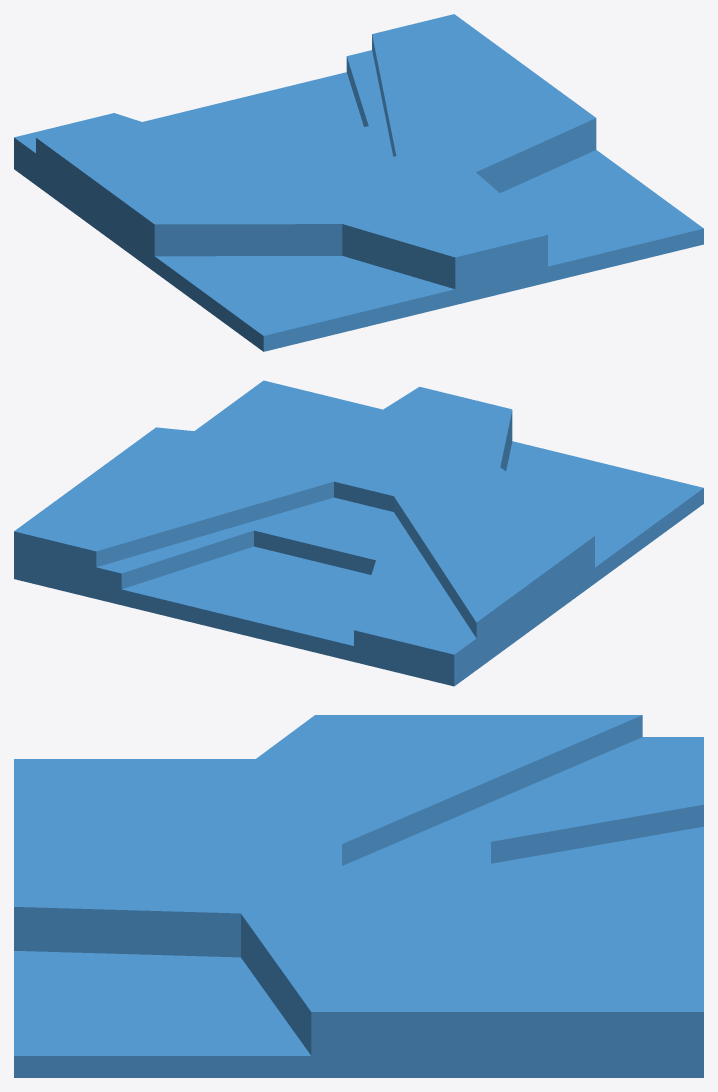
The model's file is New Level 6.fbx.
3 views of the same model, one above another, from view 1: azimuth 30°, elevation 25°; view 2: azimuth 150°, elevation 25°; view 3: azimuth 270°, elevation 25° (orthographic). The views are drawn at different scales.
Parts seen in each view (by area): view 1: New_Level6_3-5, New_Level6_4-5, New_Level6_5-5, New_Level6_2-5, New_Level6_1-5; view 2: New_Level6_3-5, New_Level6_2-5, New_Level6_1-5, New_Level6_4-5, New_Level6_5-5; view 3: New_Level6_3-5, New_Level6_5-5, New_Level6_2-5, New_Level6_1-5, New_Level6_4-5.
Boxes of the visible parts, <box> form: New_Level6_3-5: <box>36,14,596,304</box>; New_Level6_4-5: <box>154,256,455,351</box>; New_Level6_5-5: <box>500,150,703,282</box>; New_Level6_2-5: <box>14,50,393,184</box>; New_Level6_1-5: <box>143,72,363,155</box>; New_Level6_3-5: <box>14,386,594,669</box>; New_Level6_2-5: <box>96,497,476,686</box>; New_Level6_1-5: <box>121,546,371,661</box>; New_Level6_4-5: <box>506,441,703,583</box>; New_Level6_5-5: <box>194,380,382,444</box>; New_Level6_3-5: <box>14,715,703,1077</box>; New_Level6_5-5: <box>14,951,311,1077</box>; New_Level6_2-5: <box>342,737,703,913</box>; New_Level6_1-5: <box>491,826,703,956</box>; New_Level6_4-5: <box>14,759,255,843</box>.
Size of the model in its own units: 14486 by 14223 by 1500.
